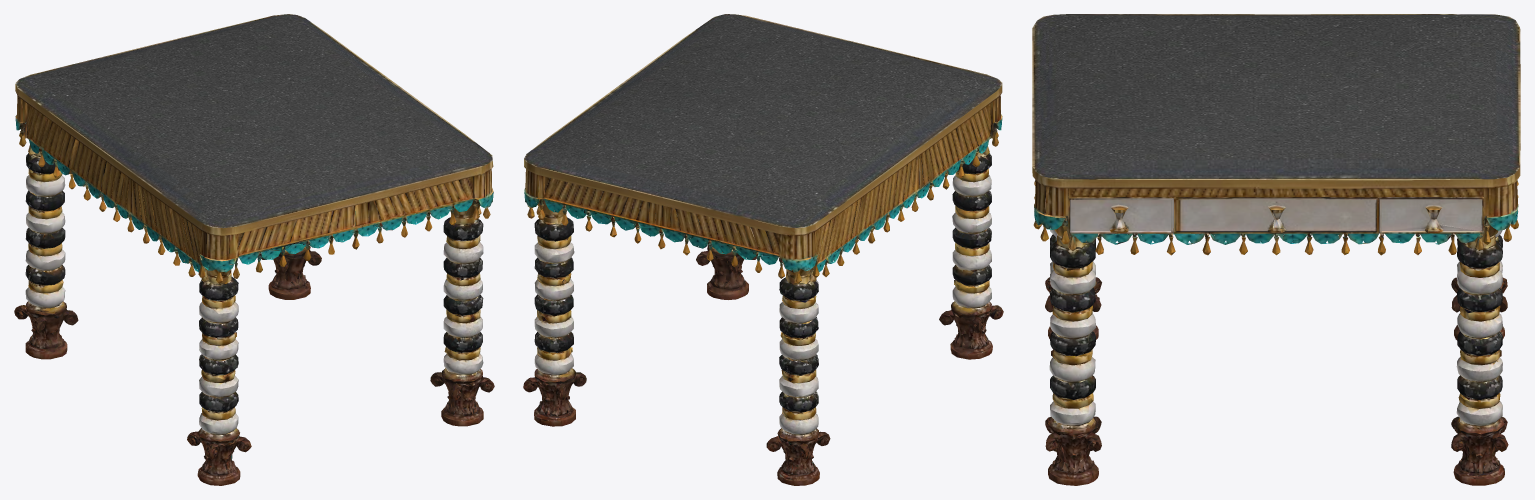
File: TH-07_writing_desk_game.glb
3 views of the same model, side by side, from view 1: azimuth 30°, elevation 25°; view 2: azimuth 150°, elevation 25°; view 3: azimuth 270°, elevation 25° (orthographic). The views are drawn at different scales.
Visible parts, largest first — view 1: TH-07_writing_desk; view 2: TH-07_writing_desk; view 3: TH-07_writing_desk.
Part boxes in pixels (x1,y1,x2,y2): TH-07_writing_desk: (14, 14, 494, 485); TH-07_writing_desk: (523, 14, 1003, 485); TH-07_writing_desk: (1032, 14, 1520, 485).
Bounding box in the file's own units: 0.8591 × 0.7592 × 1.05.
1 material, 1 textured.
